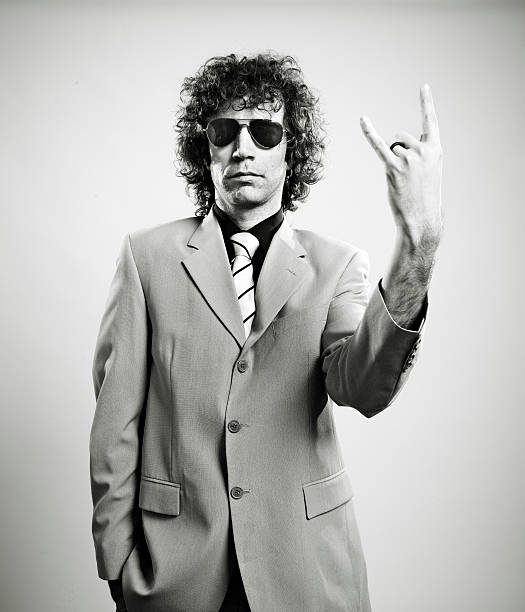Rock On: (360, 74, 473, 245)
